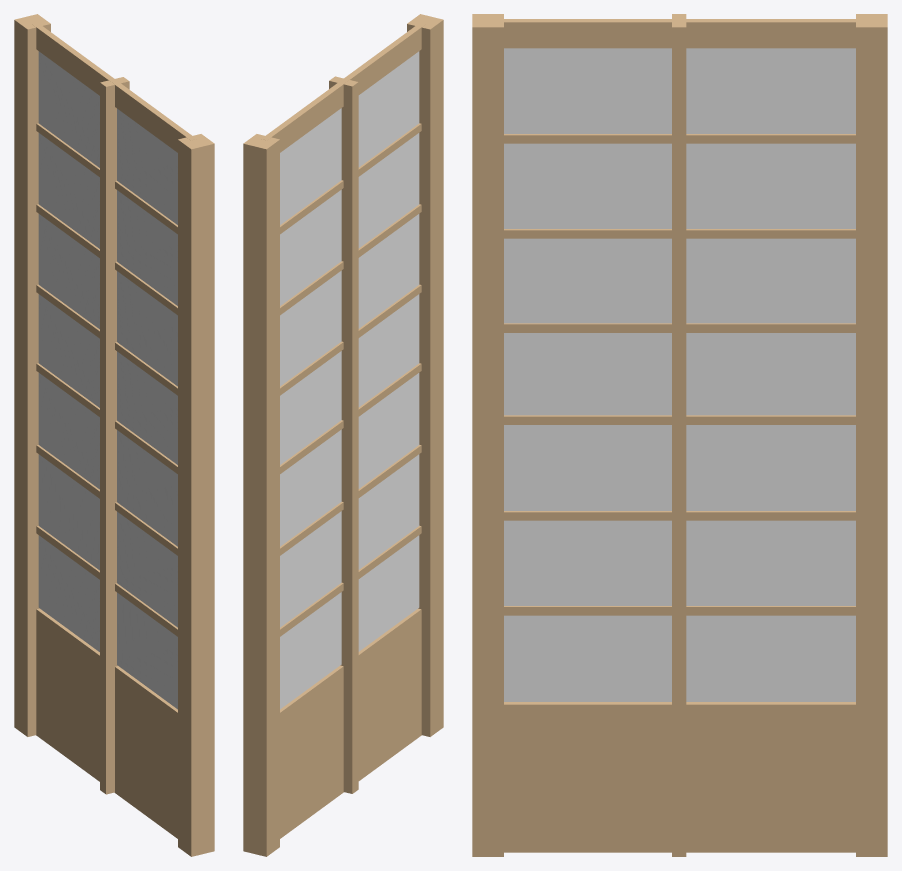
File: shouji.fbx
3 views of the same model, side by side, from view 1: azimuth 30°, elevation 25°; view 2: azimuth 150°, elevation 25°; view 3: azimuth 270°, elevation 25° (orthographic). The views are drawn at different scales.
Visible parts, largest first — view 1: Pillar, Pillar.001, Pillar.002, Cube.018, Cube.017, Paper2.003, Paper.007, Paper.005, Paper.006, Paper.004, Paper2.001, Paper.003 (+23 smaller); view 2: Pillar.001, Pillar, Pillar.002, Cube.018, Cube.017, Paper2.001, Paper2.003, Paper.007, Paper.001, Paper.003, Paper.005, Paper.004 (+23 smaller); view 3: Pillar, Pillar.001, Cube.017, Cube.018, Paper2.003, Paper2.002, Paper.004, Paper.005, Paper.006, Paper.007, Paper2.001, Paper2 (+23 smaller).
Boxes of the visible parts, x1,y1,x2,y2 form: Pillar: (178, 134, 214, 856); Pillar.001: (14, 14, 50, 736); Pillar.002: (100, 77, 129, 794); Cube.018: (36, 613, 99, 781); Cube.017: (115, 670, 177, 838); Paper2.003: (38, 535, 99, 651); Paper.007: (38, 373, 99, 489); Paper.005: (38, 51, 99, 167); Paper.006: (38, 454, 99, 570); Paper.004: (38, 133, 99, 248); Paper2.001: (117, 592, 177, 709); Paper.003: (117, 430, 177, 546); Pillar.001: (243, 134, 279, 856); Pillar: (407, 14, 443, 736); Pillar.002: (329, 76, 358, 793); Cube.018: (280, 670, 343, 838); Cube.017: (343, 613, 421, 788); Paper2.001: (358, 535, 419, 651); Paper2.003: (280, 592, 341, 709); Paper.007: (280, 429, 341, 546); Paper.001: (358, 51, 419, 167); Paper.003: (358, 373, 419, 488); Paper.005: (280, 108, 341, 224); Paper.004: (280, 189, 341, 305); Pillar: (472, 14, 503, 856); Pillar.001: (856, 14, 887, 856); Cube.017: (504, 708, 686, 852); Cube.018: (686, 709, 855, 852); Paper2.003: (686, 615, 855, 701); Paper2.002: (686, 238, 855, 323); Paper.004: (686, 143, 855, 228); Paper.005: (686, 48, 855, 133); Paper.006: (686, 520, 855, 605); Paper.007: (686, 425, 855, 510); Paper2.001: (504, 615, 671, 701); Paper2: (504, 238, 671, 323).
Size of the model in its own units: 12.32 by 357 by 162.
